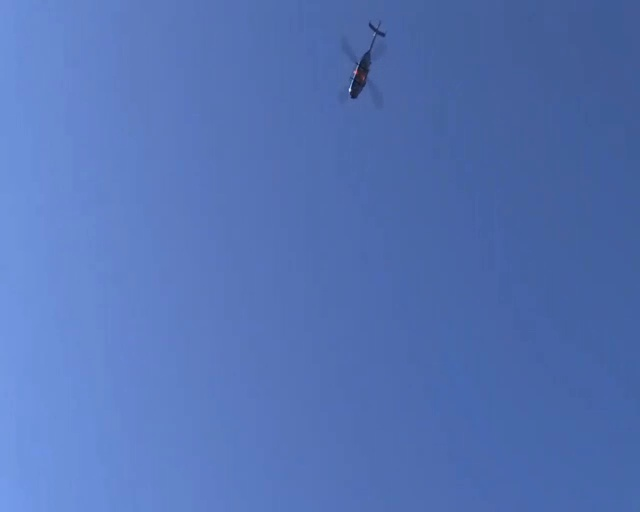HELICOPTER: (340, 19, 387, 101)
